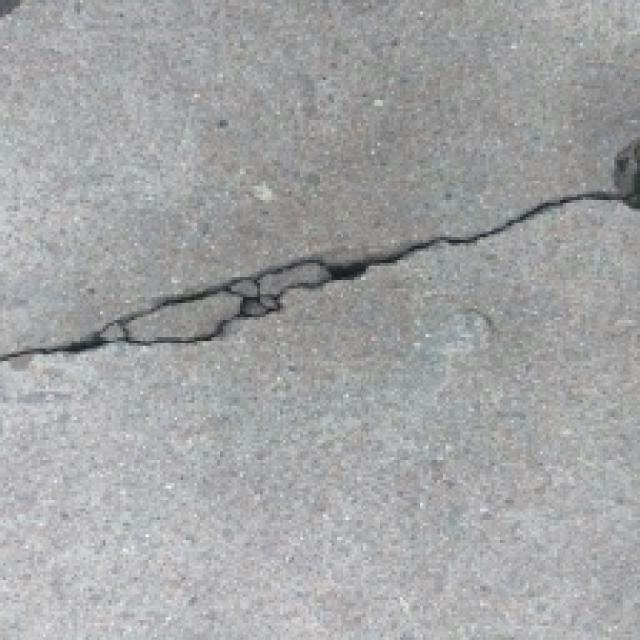crack: (0, 162, 640, 388)
